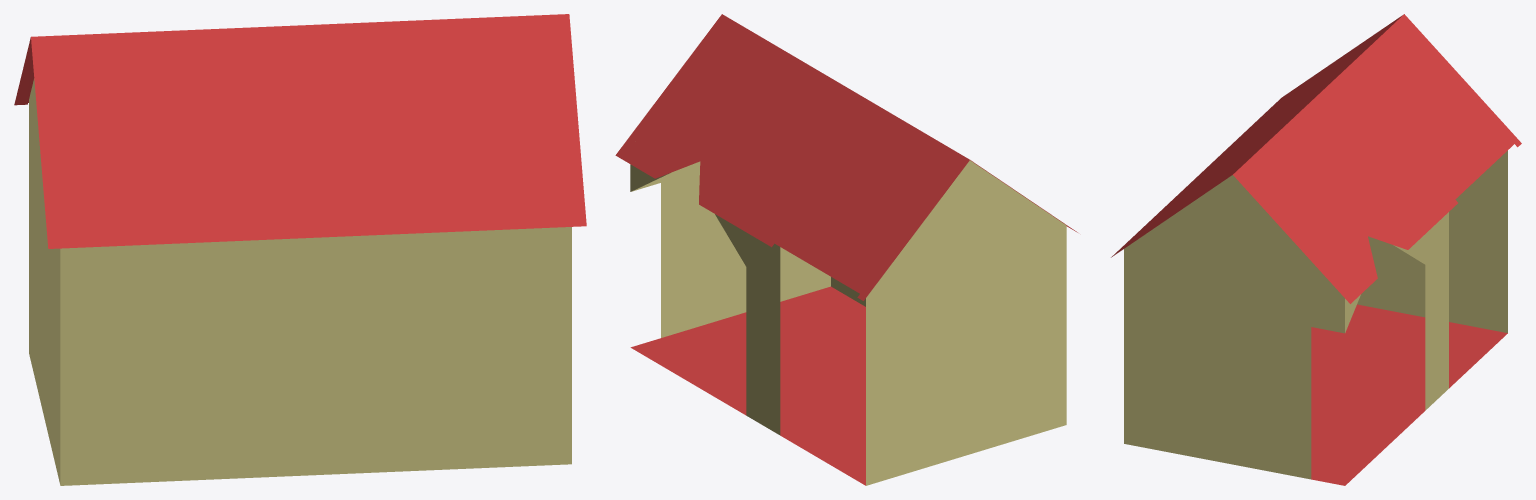
3 renders of one model, left to right at view 1: azimuth 30°, elevation 25°; view 2: azimuth 150°, elevation 25°; view 3: azimuth 270°, elevation 25°, orthographic. The views are drawn at different scales.
Bounding box in the file's own units: 23.34 × 19.67 × 15.52.
